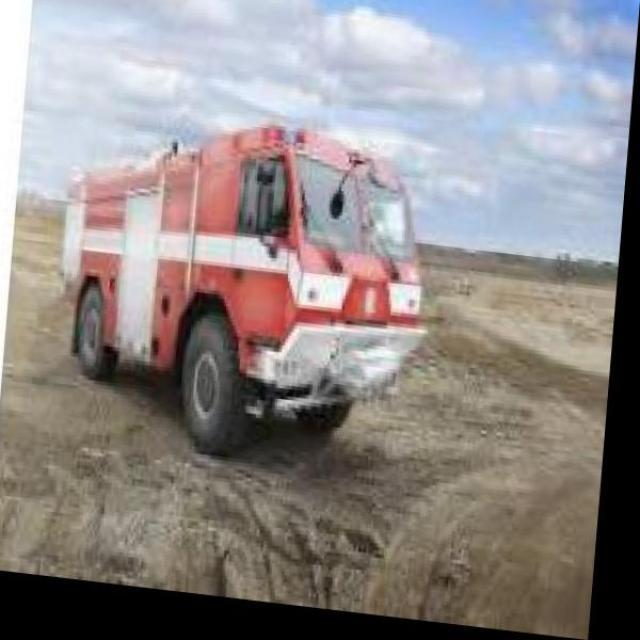emergency: (58, 121, 430, 455)
